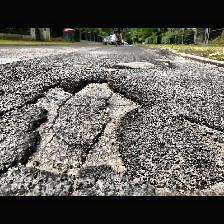pothole: (18, 78, 144, 174)
